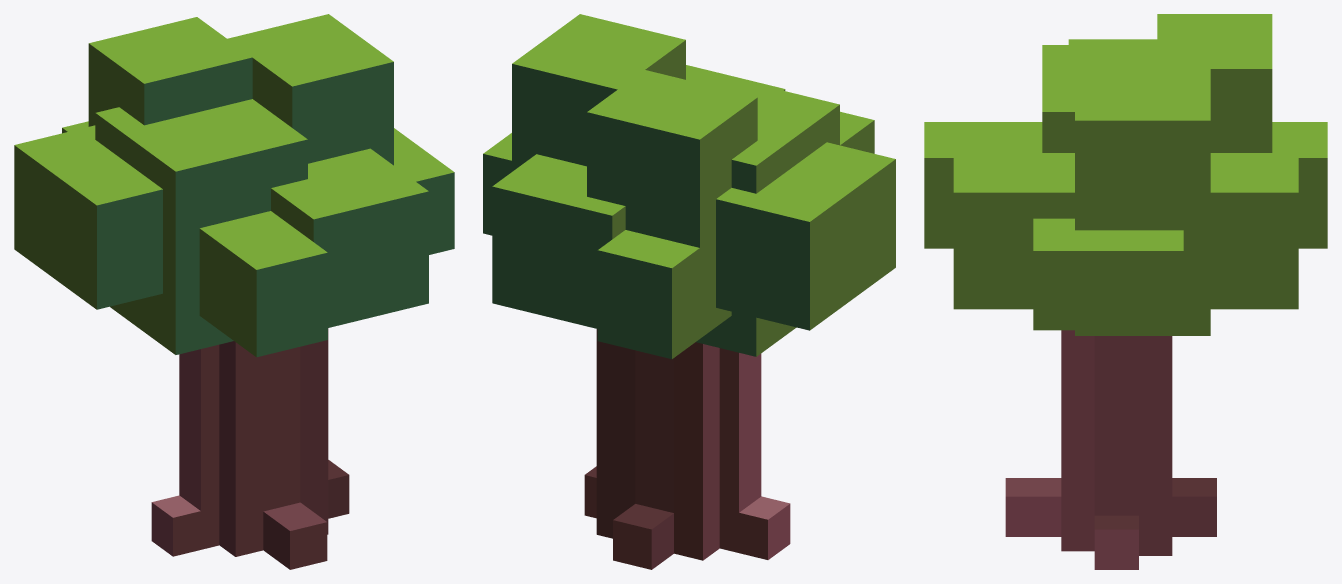
File: Tree_01.fbx
3 views of the same model, side by side, from view 1: azimuth 30°, elevation 25°; view 2: azimuth 150°, elevation 25°; view 3: azimuth 270°, elevation 25° (orthographic). The views are drawn at different scales.
Visible parts, largest first — view 1: Tree_01; view 2: Tree_01; view 3: Tree_01.
Boxes of the visible parts, x1=… form: Tree_01: x1=14, y1=14, x2=454, y2=569; Tree_01: x1=483, y1=14, x2=895, y2=569; Tree_01: x1=924, y1=14, x2=1327, y2=569.
Bounding box in the file's own units: 367 × 464 × 363.
